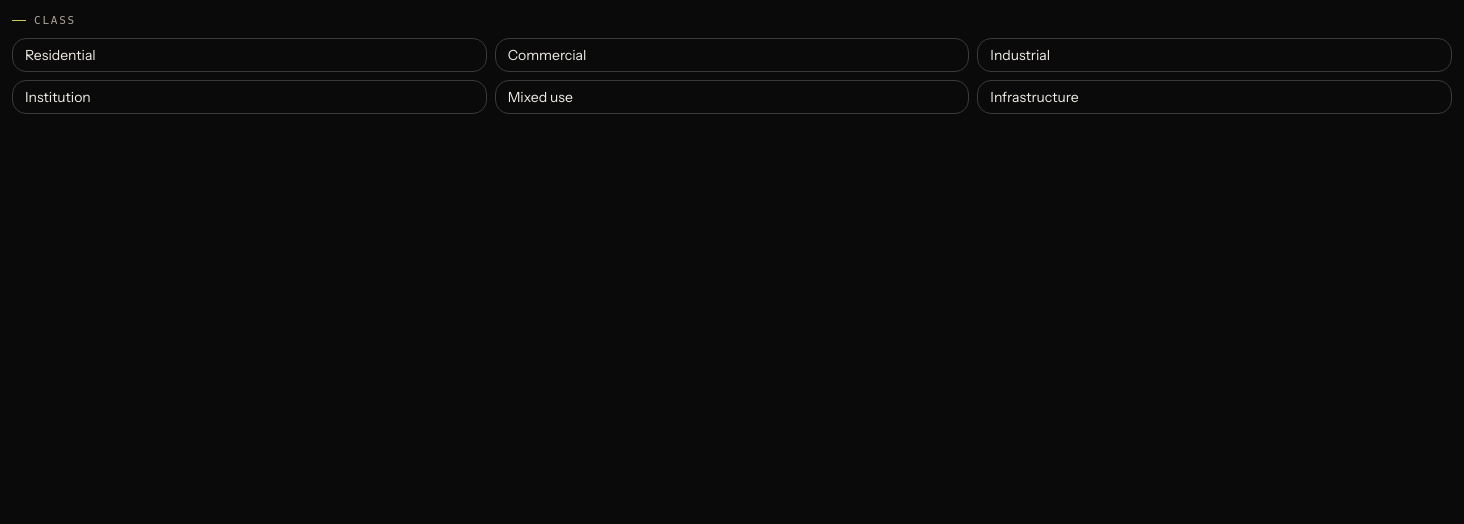
it: TaxonomyPicker › selects every item in a scope category from the category checkbox
Click the button "Industrial" at (1020, 55), box left=977, top=38, right=1452, bottom=72
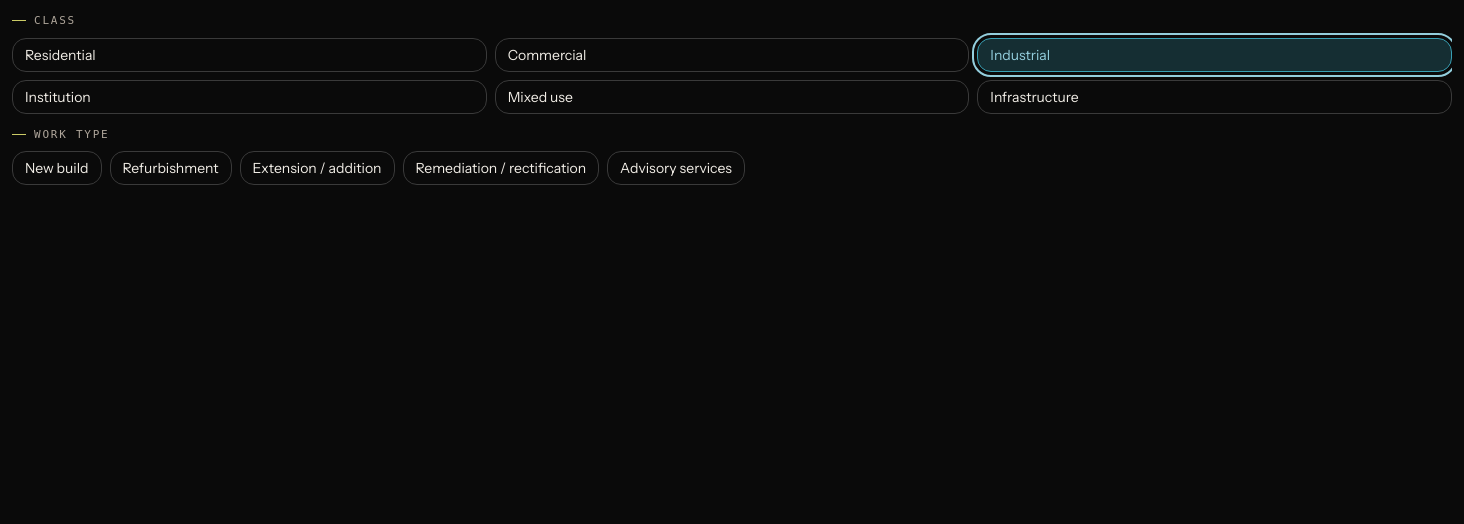
Click the button "Extension / addition" at (317, 168), box left=240, top=151, right=394, bottom=185
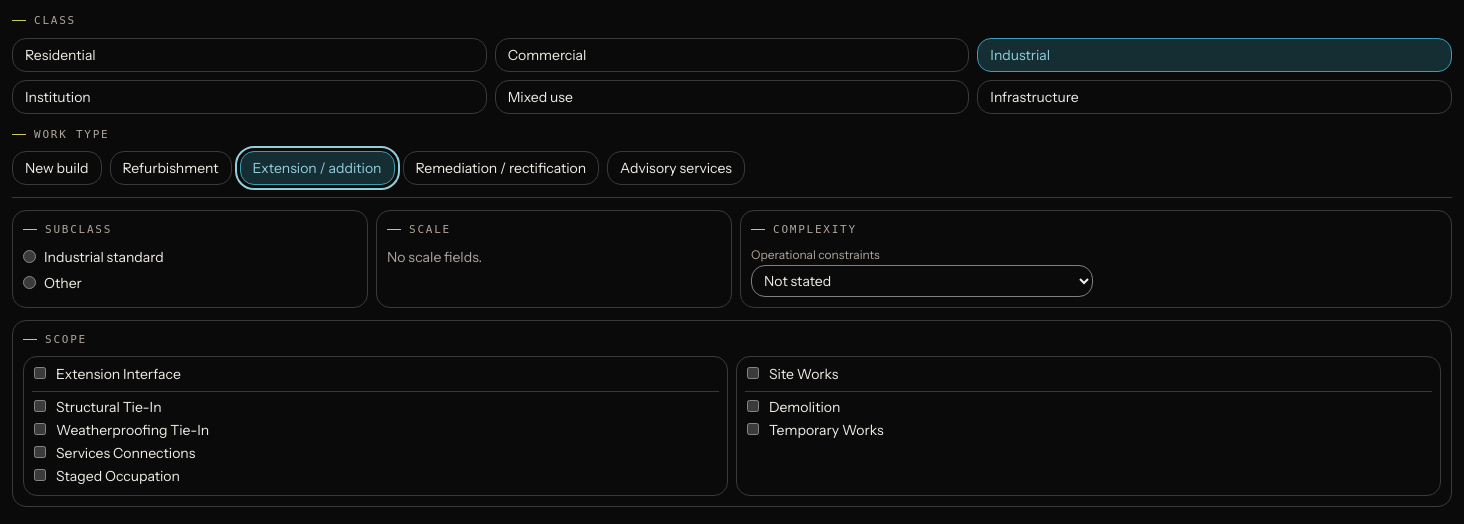
Click the checkbox labelled "Demolition" at (753, 406), box left=747, top=400, right=759, bottom=412
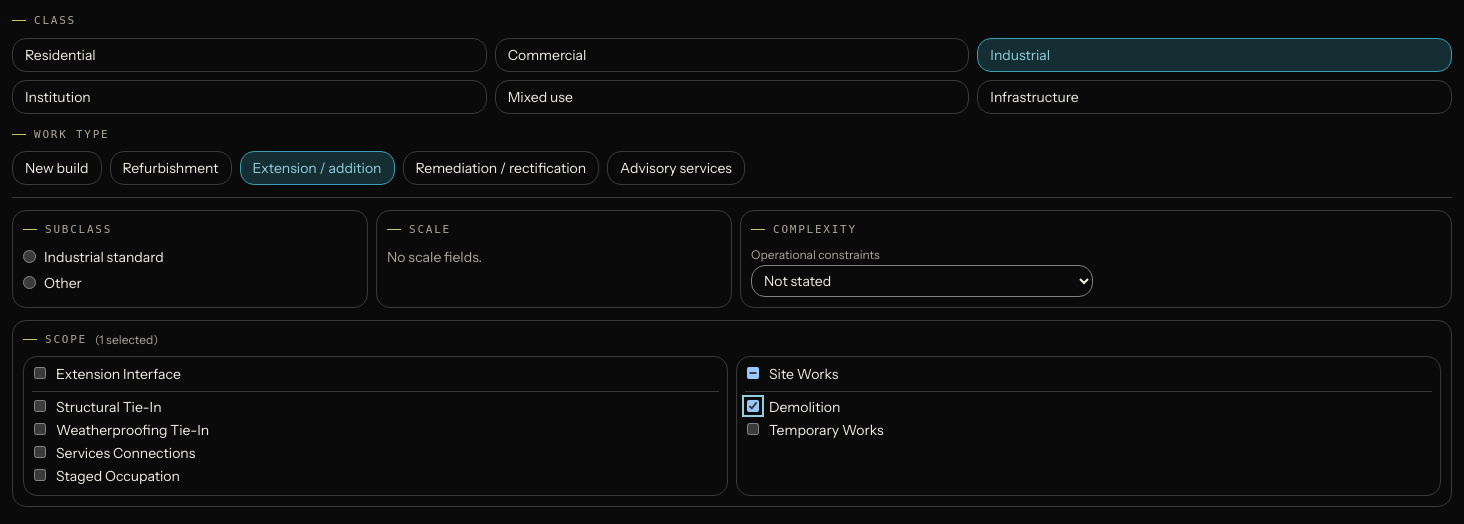
Click the checkbox named "Select all Extension Interface" at (40, 373), box left=34, top=367, right=46, bottom=379
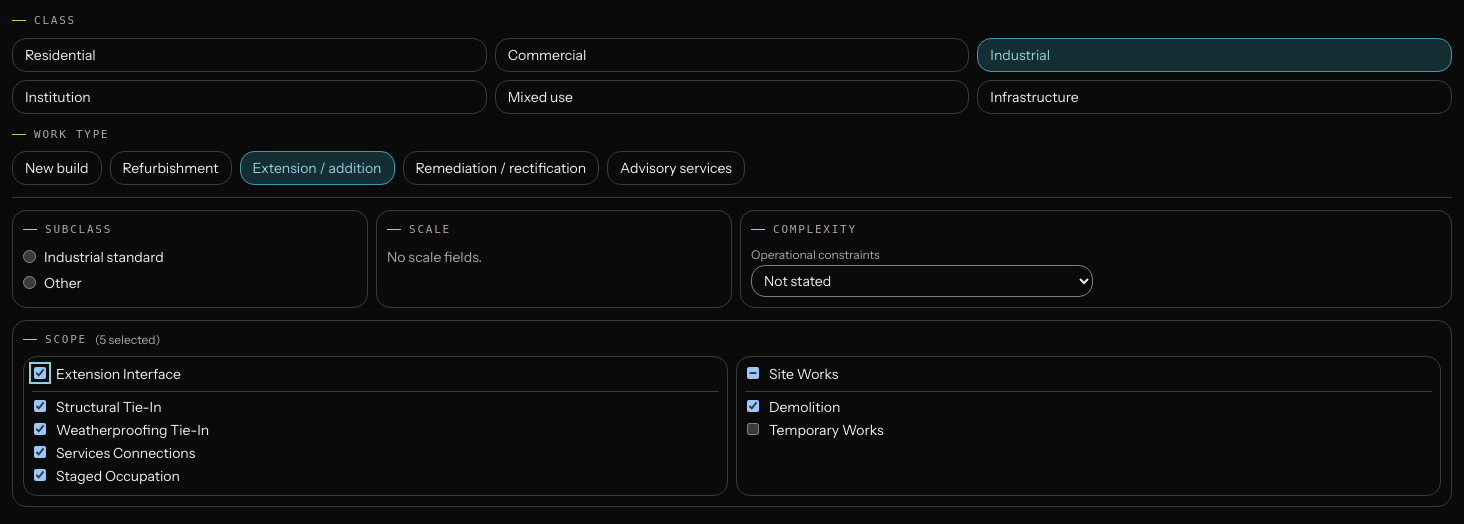
Result: the checkbox labelled "Structural Tie-In" is checked at left=34, top=400, right=46, bottom=412
Result: the checkbox labelled "Weatherproofing Tie-In" is checked at left=34, top=423, right=46, bottom=435
Result: the checkbox labelled "Services Connections" is checked at left=34, top=446, right=46, bottom=458
